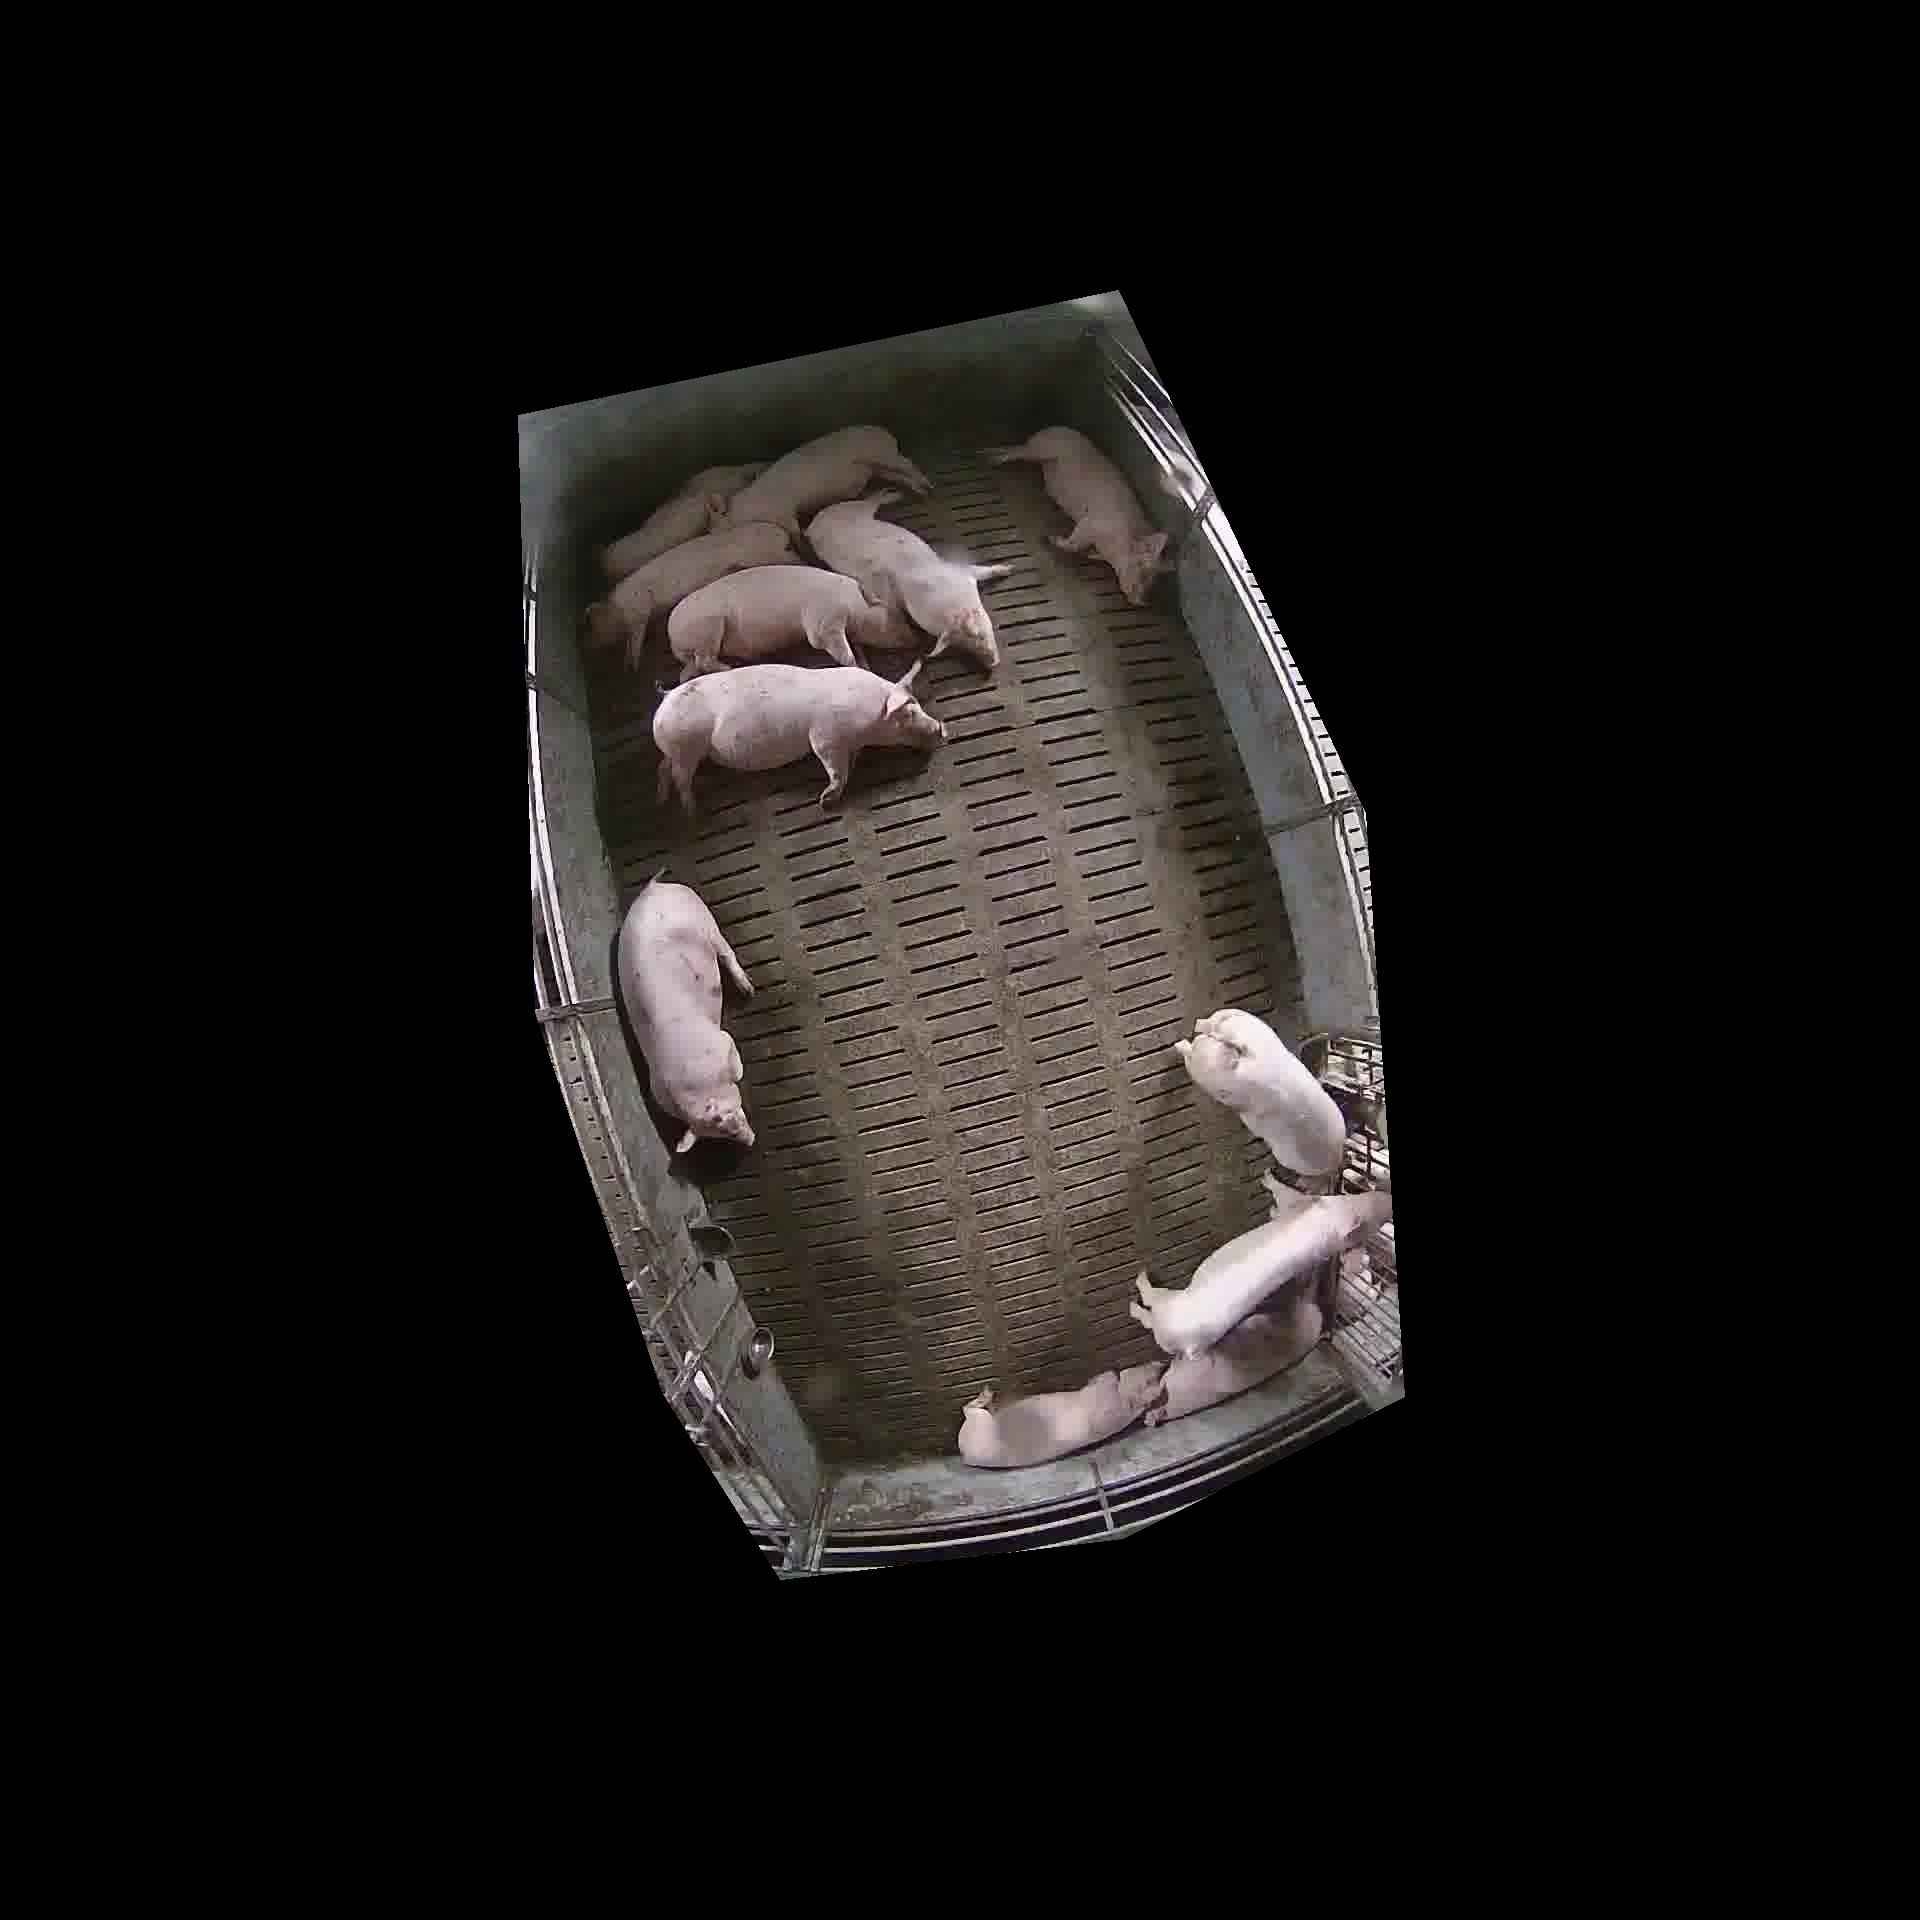pig: (1129, 1182, 1387, 1350), (652, 663, 944, 811), (617, 879, 754, 1152), (805, 492, 1009, 668), (986, 425, 1167, 605), (587, 522, 798, 666), (1176, 1009, 1345, 1176), (668, 564, 907, 679), (1146, 1278, 1322, 1422), (724, 425, 930, 536), (958, 1363, 1162, 1466), (600, 462, 765, 580)
